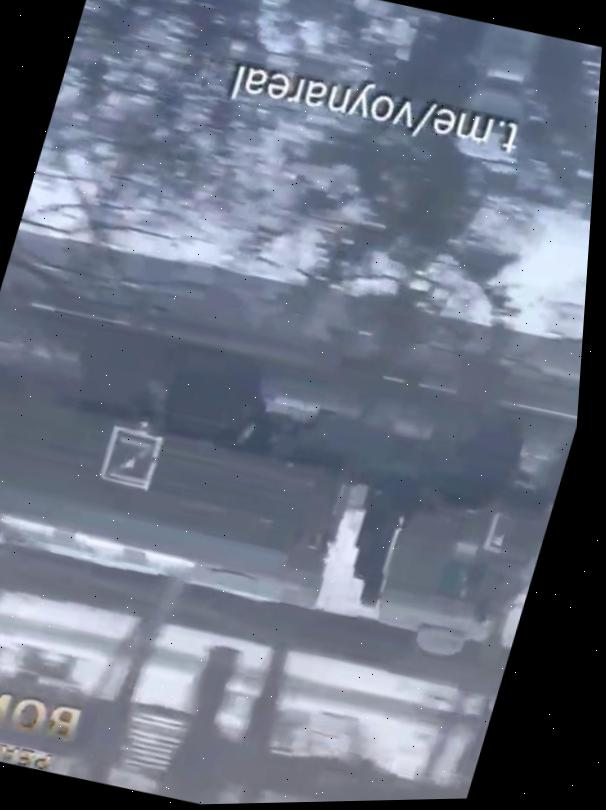truck: (0, 279, 587, 681)
